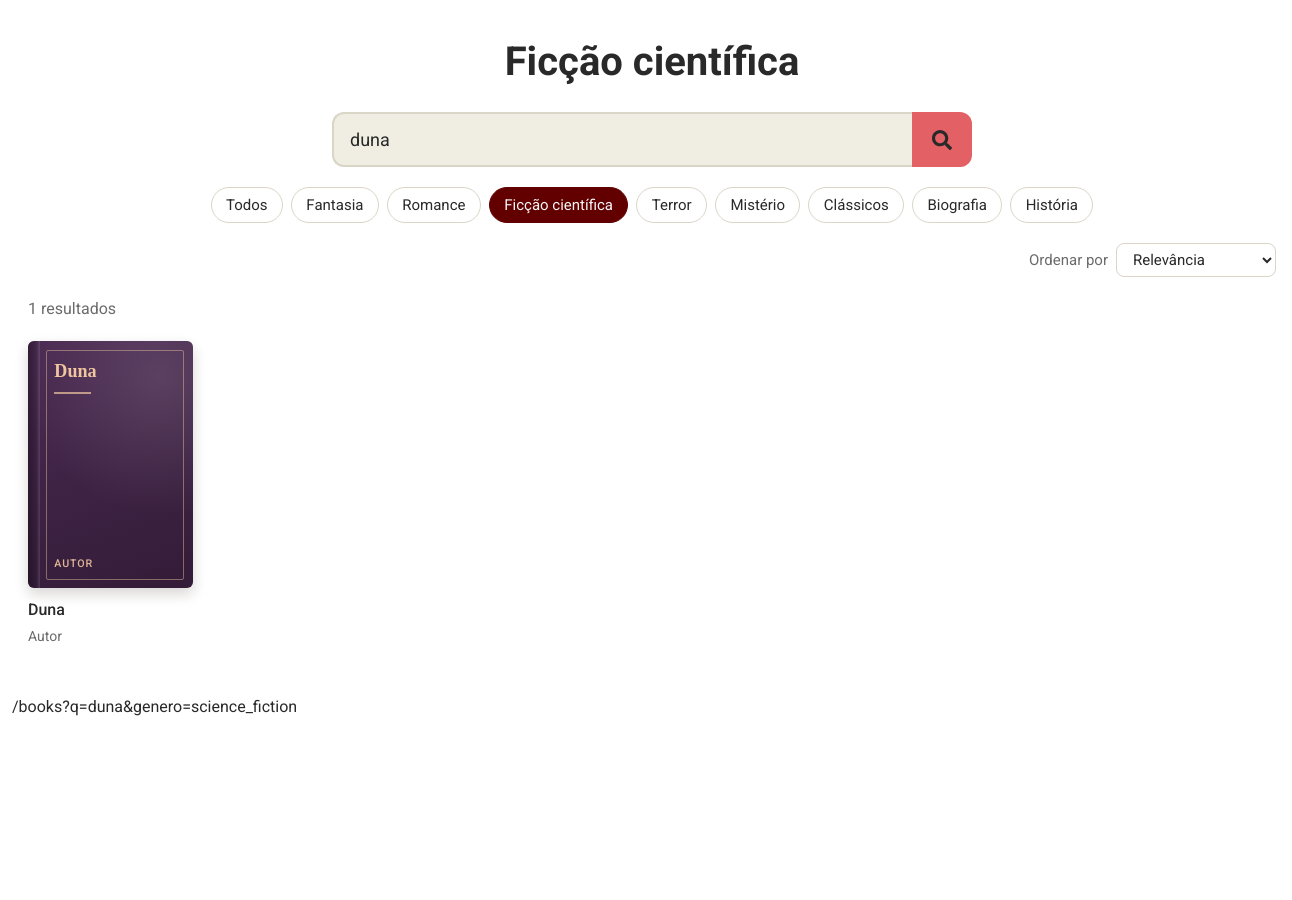
AllBooksPage › ordenação muda a URL mantendo busca e gênero
Select "Melhor avaliados" in the dropdown labelled "Ordenar por" at [1196, 260], box [1116,243,1276,278]
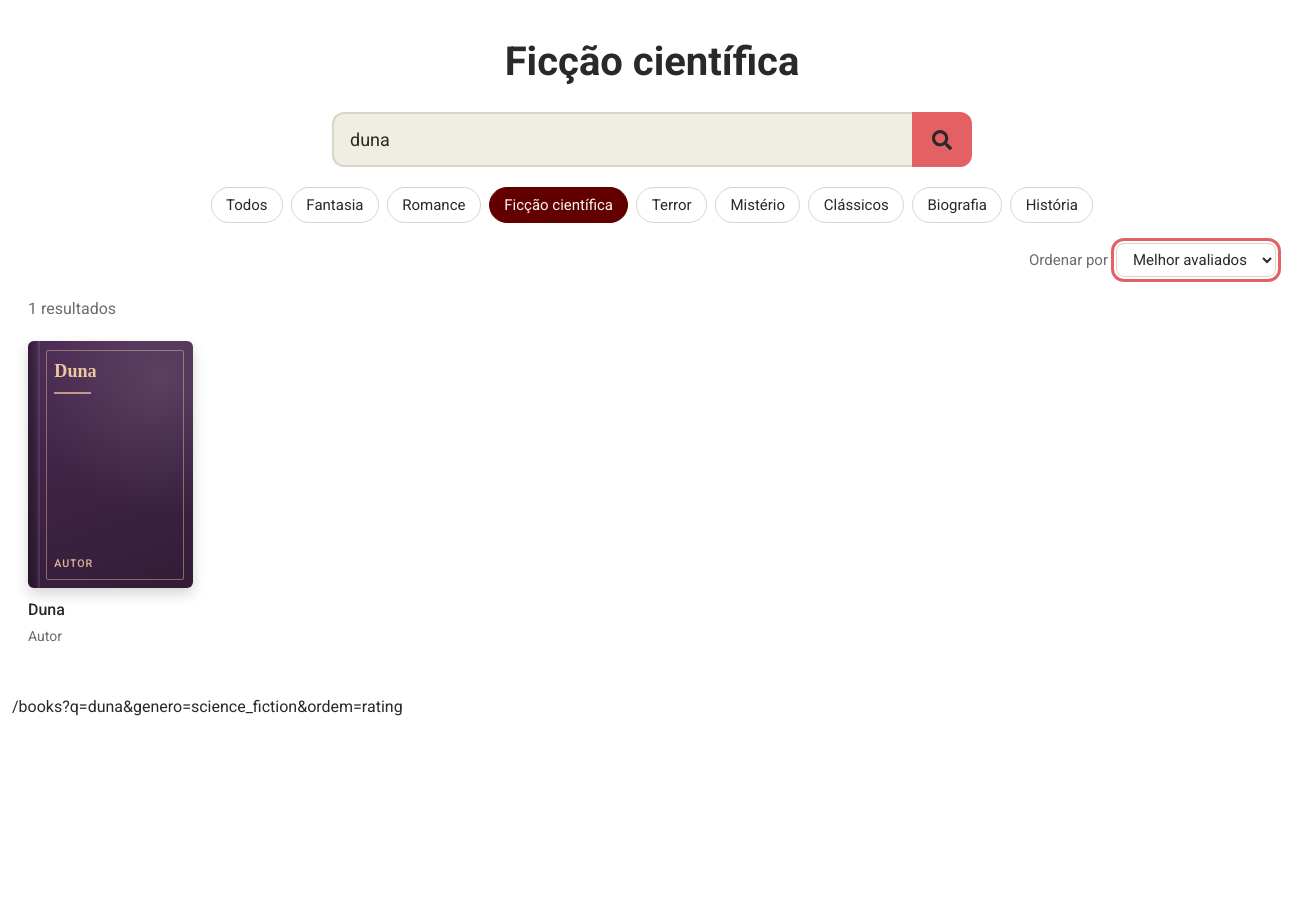
Expected: the heading "Duna" is shown, [28,600,65,619]
Expected: the text with test id "local" reads "/books?q=duna&genero=science_fiction&ordem=rating", [12,697,403,716]
